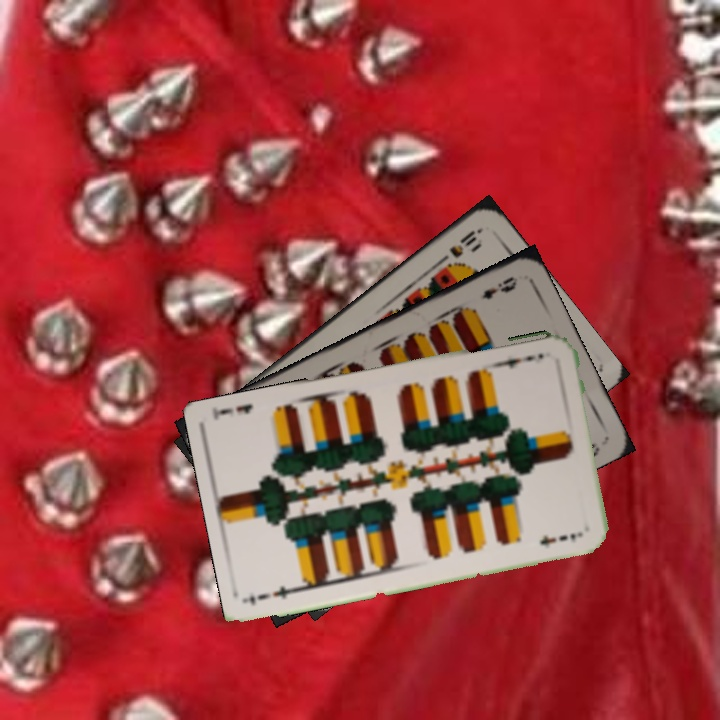E7: (494, 349, 546, 372), (253, 581, 305, 602)
E9: (477, 272, 521, 302)
S10: (434, 225, 484, 267)
